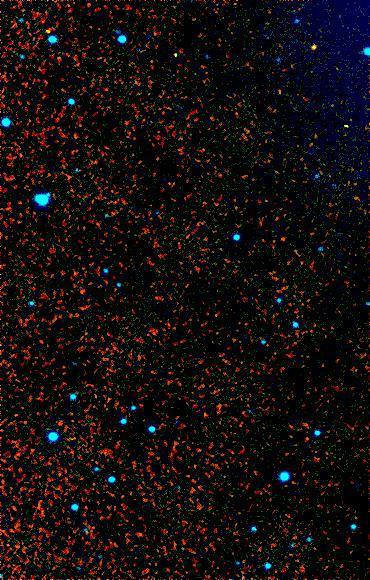star: (298, 32, 328, 62)
